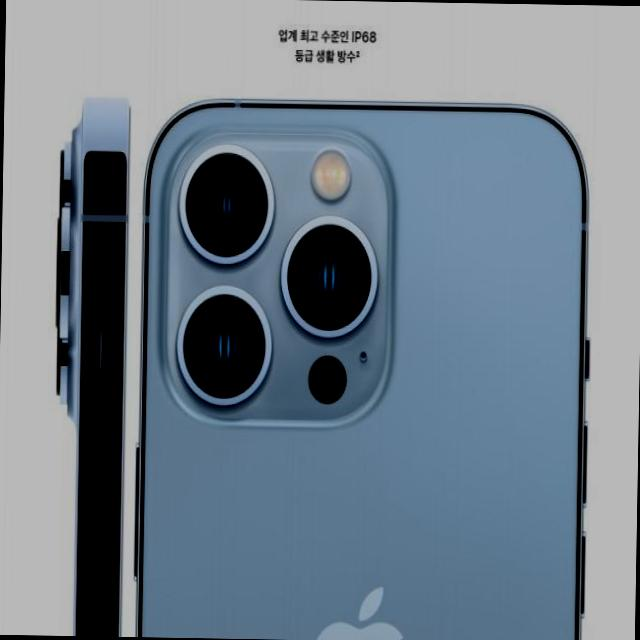lens_back: (174, 140, 278, 272), (172, 280, 276, 410), (278, 213, 382, 341)
phone: (135, 81, 603, 640)
